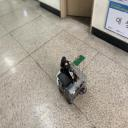cart: (56, 62, 88, 105)
